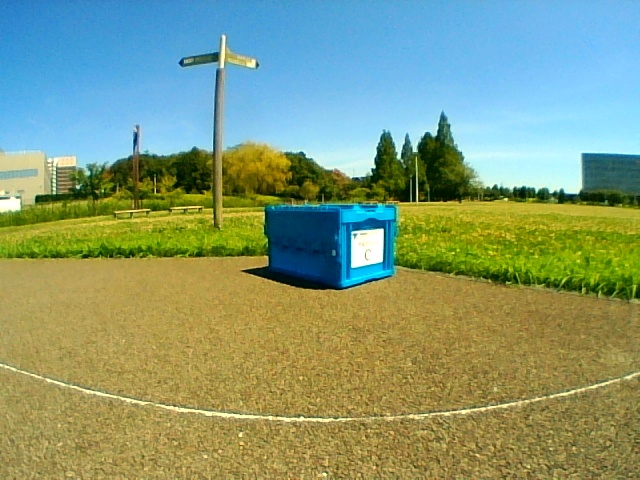blue_box: (266, 204, 396, 287)
tag_c: (354, 233, 383, 264)
